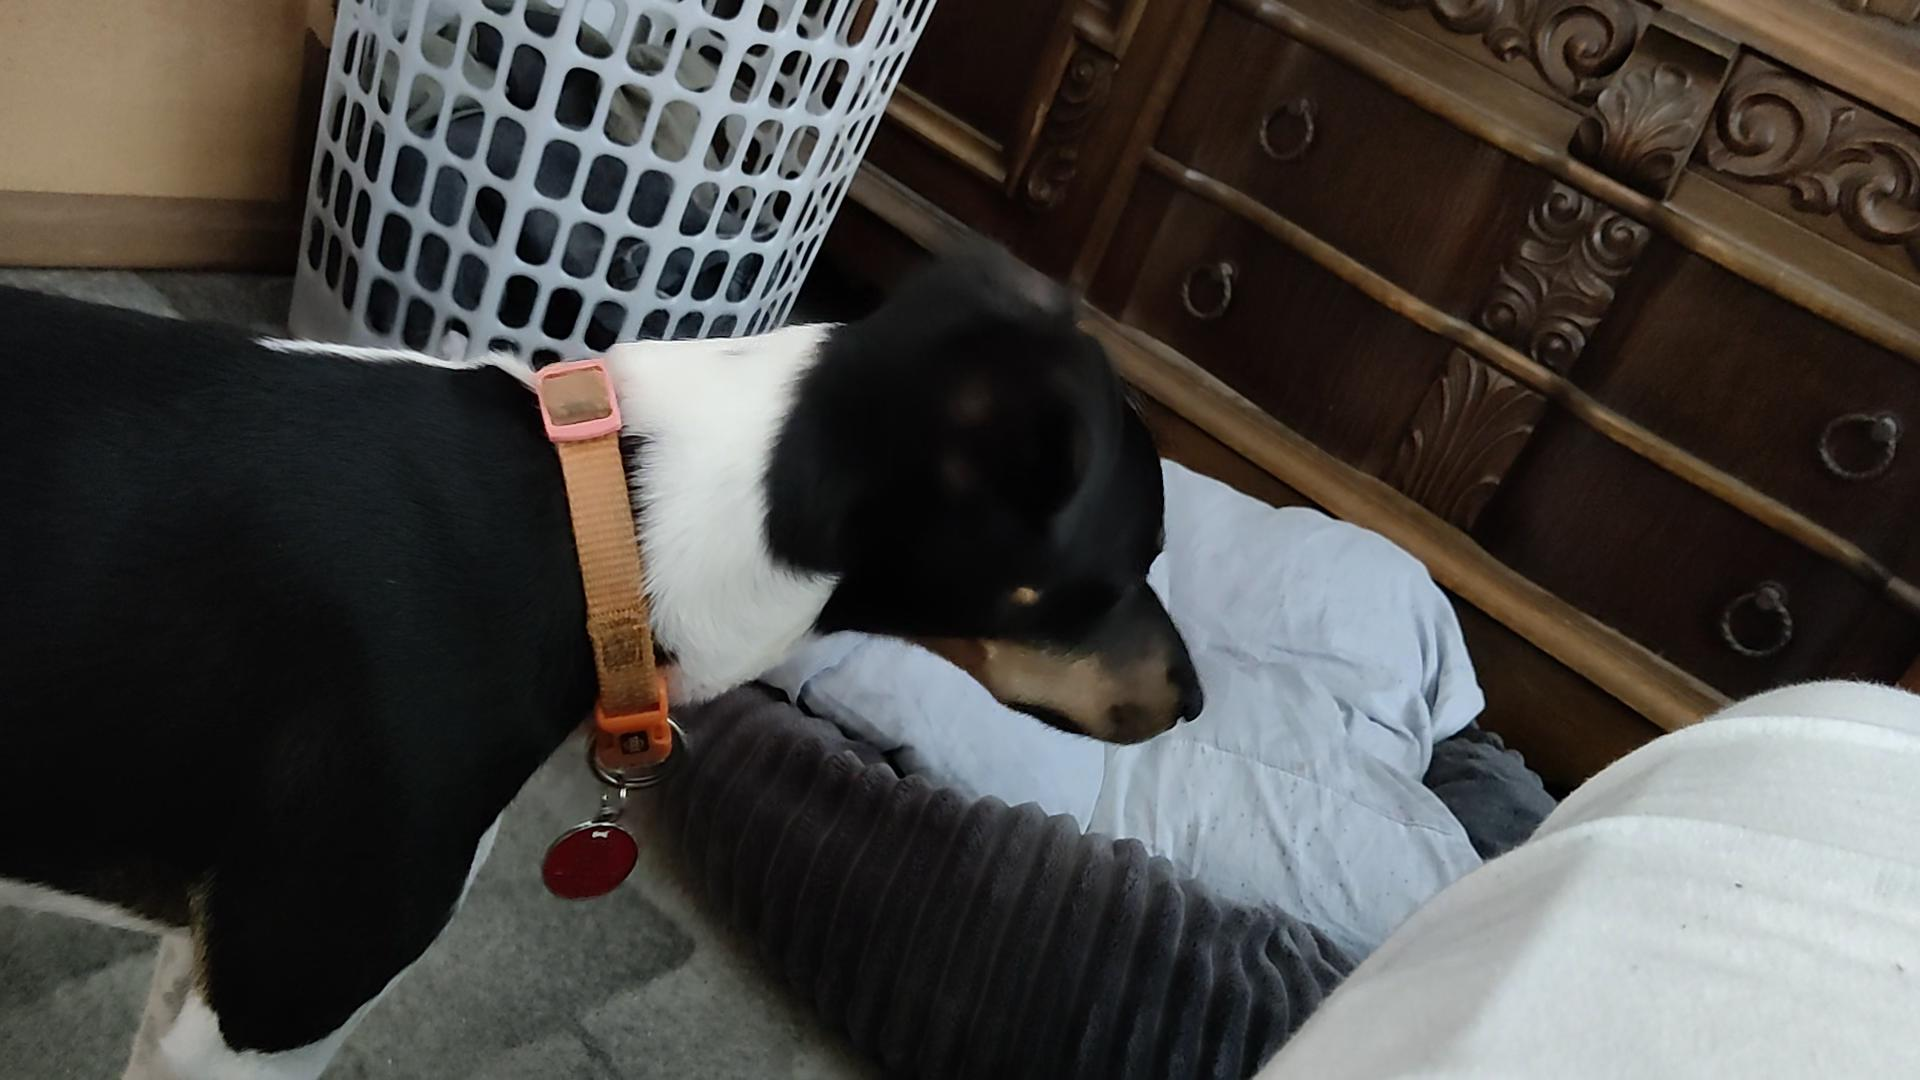Dog: (0, 227, 1213, 1079)
